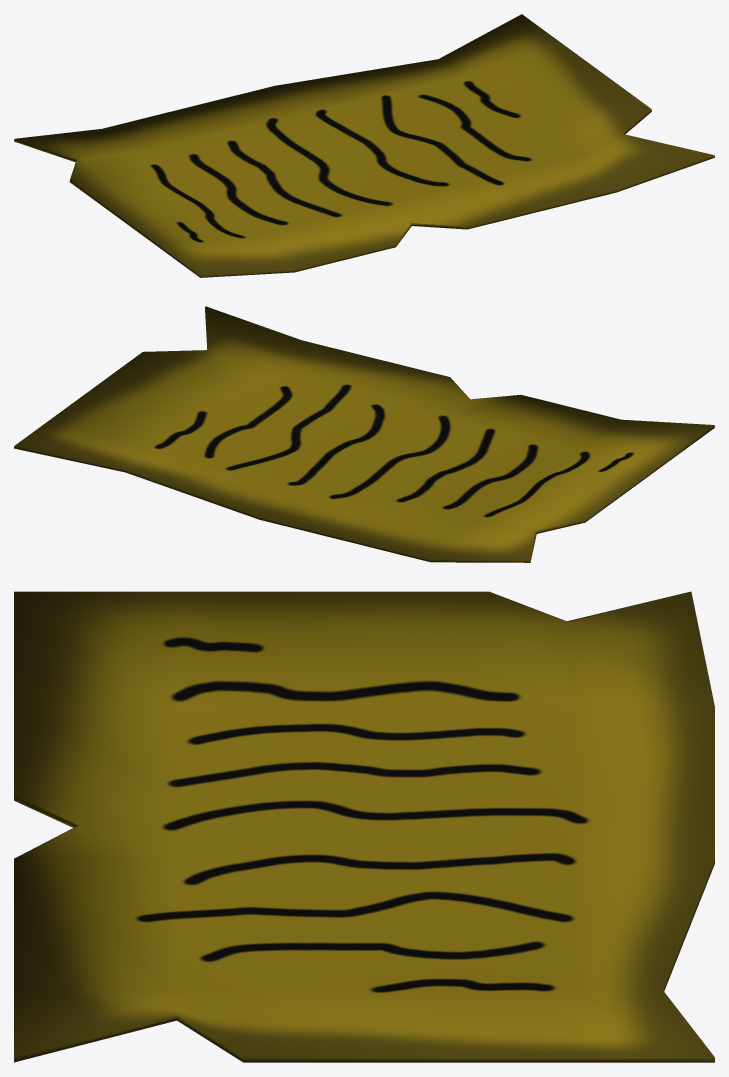
The model's file is paper.fbx.
3 renders of one model, top to bottom at view 1: azimuth 30°, elevation 25°; view 2: azimuth 150°, elevation 25°; view 3: azimuth 270°, elevation 25°, orthographic. The views are drawn at different scales.
Parts seen in each view (by area): view 1: Plane; view 2: Plane; view 3: Plane.
Part boxes in pixels (left/top/right/bottom): Plane: left=14, top=14, right=714, bottom=277; Plane: left=14, top=306, right=714, bottom=562; Plane: left=14, top=591, right=714, bottom=1062.
Size of the model in its own units: 200 by 7.58 by 130.
